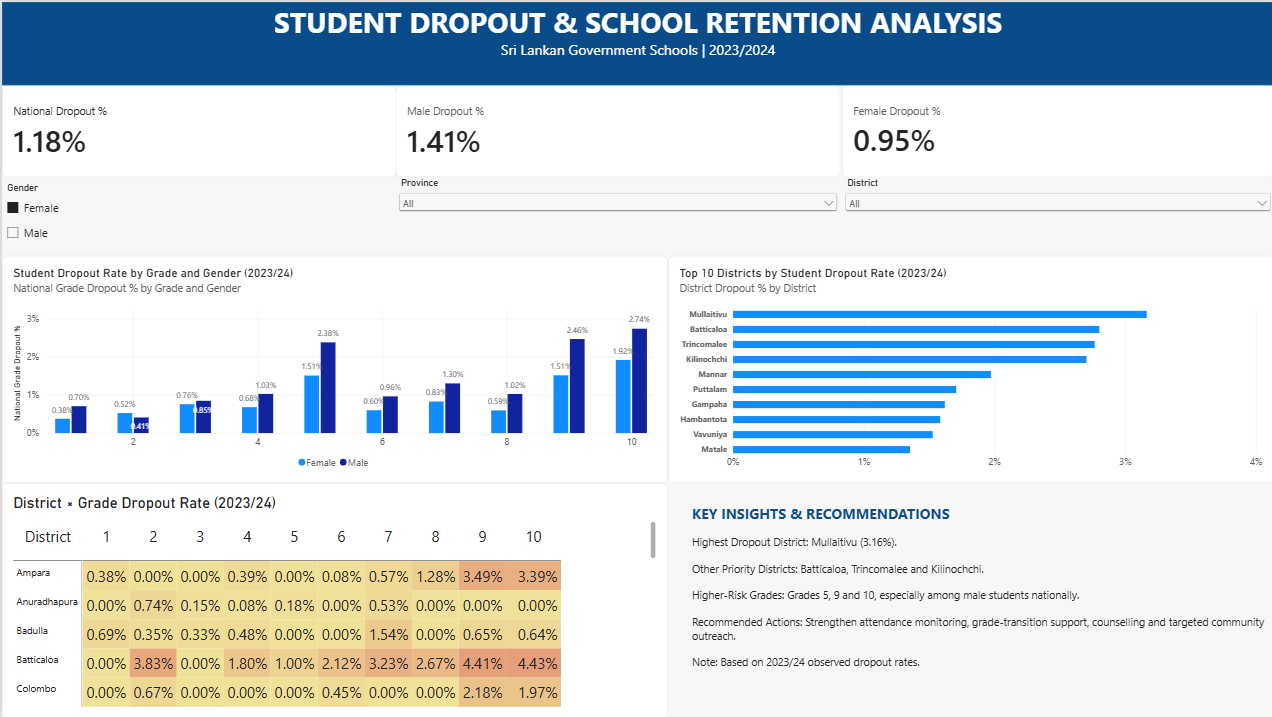

The page's visual inventory and layout, read from the dashboard file:
{"tool":"powerbi","page":{"name":"Student Dropout Overview","canvas":[1920,1080],"ordinal":0},"visuals":[{"type":"cardVisual","fields":{"Data":["Dropout_National.National Dropout %"]},"box":[0,126.2,595.2,138.1],"z":0},{"type":"clusteredBarChart","title":"Top 10 Districts by Student Dropout Rate (2023/24)","fields":{"Category":["DimDistrict.District"],"Y":["Dropout_District.District Dropout %"]},"box":[1004.8,383.3,914.3,342.9],"z":1000},{"type":"clusteredColumnChart","title":"Student Dropout Rate by Grade and Gender (2023/24)","fields":{"Category":["DimGrade.Grade"],"Series":["Dropout_NationalGrade.Gender"],"Y":["Dropout_NationalGrade.National Grade Dropout %"]},"box":[0,383.3,1004.8,342.9],"z":2000},{"type":"pivotTable","title":"District × Grade Dropout Rate (2023/24)","fields":{"Columns":["DimGrade.Grade"],"Rows":["DimDistrict.District"],"Values":["Dropout_Grade.District Grade Dropout %"]},"box":[0,726.2,1004.8,354.8],"z":3000},{"type":"slicer","fields":{"Values":["Dropout_Grade.Gender"]},"box":[0,271.4,595.2,114.3],"z":4000},{"type":"slicer","fields":{"Values":["DimProvince.Province"]},"box":[595.2,264.3,671.4,104.8],"z":5000},{"type":"slicer","fields":{"Values":["DimDistrict.District"]},"box":[1267.5,265,652.5,105],"z":6000},{"type":"cardVisual","fields":{"Data":["Dropout_National.Female Dropout %"]},"box":[1267.5,125,652.5,140],"z":7000},{"type":"cardVisual","fields":{"Data":["Dropout_National.Male Dropout %"]},"box":[595.2,126.2,671.4,138.1],"z":8000},{"type":"textbox","box":[1537,89,280,280],"z":9000},{"type":"shape","box":[0,0,1920.4,125.7],"z":10000},{"type":"textbox","box":[0,0,1920.4,125.7],"z":11000},{"type":"textbox","box":[1041.5,757.5,876.8,323.2],"z":12000}]}

Visuals, with their boxes in screenshot pixels (x1, y1, x2, y2), scaled from the page's 1920x1080 canvas onto the 1272x717 screenshot:
cardVisual - Dropout_National.National Dropout %: box=[0, 84, 394, 175]
"Top 10 Districts by Student Dropout Rate (2023/24)" clusteredBarChart: box=[666, 254, 1271, 482]
"Student Dropout Rate by Grade and Gender (2023/24)" clusteredColumnChart: box=[0, 254, 666, 482]
"District × Grade Dropout Rate (2023/24)" pivotTable: box=[0, 482, 666, 716]
slicer - Dropout_Grade.Gender: box=[0, 180, 394, 256]
slicer - DimProvince.Province: box=[394, 175, 839, 245]
slicer - DimDistrict.District: box=[840, 176, 1271, 246]
cardVisual - Dropout_National.Female Dropout %: box=[840, 83, 1271, 176]
cardVisual - Dropout_National.Male Dropout %: box=[394, 84, 839, 175]
textbox: box=[1018, 59, 1204, 245]
shape: box=[0, 0, 1271, 83]
textbox: box=[0, 0, 1271, 83]
textbox: box=[690, 503, 1271, 716]
